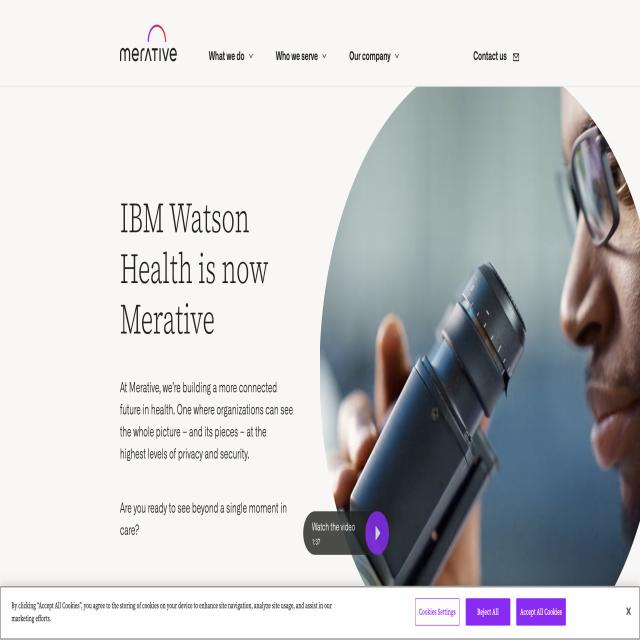Logo: (114, 12, 185, 79)
Navigation: (201, 37, 538, 81)
